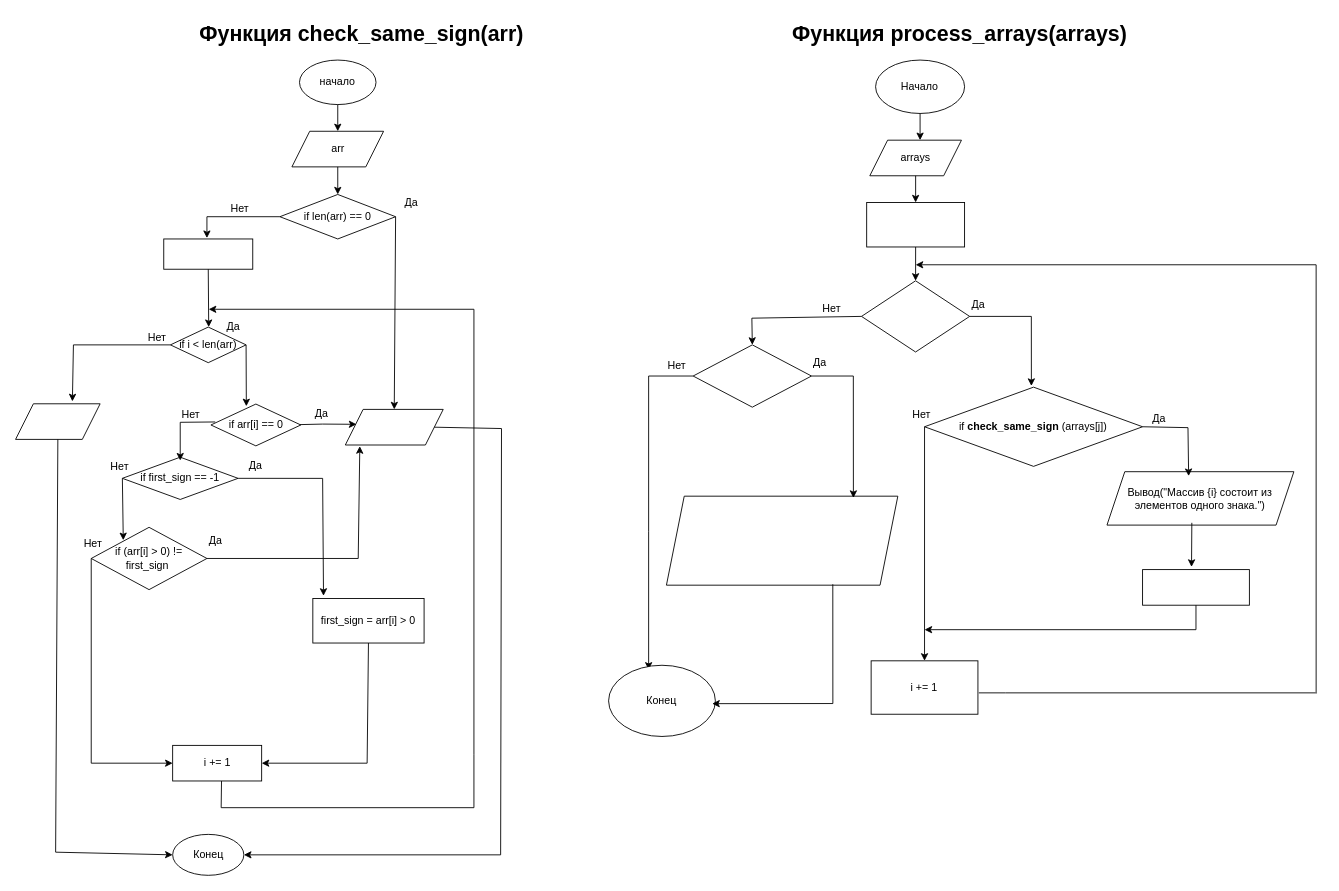
Image size: 1339x891. Some labels were removed from this diagram. Here are the shapes that lost their labels. From the top down, the centre of each, then its label:
pixel 915 224: found = false i = 1 j = 1
pixel 208 253: first_sign = None
pixel 915 316: if j < len(arays)
pixel 752 375: if found == 0
pixel 57 421: return true
pixel 393 427: return false
pixel 782 540: Вывод("Нет массивов, состоящих из элементов одного знака.")
pixel 1195 587: found = True
